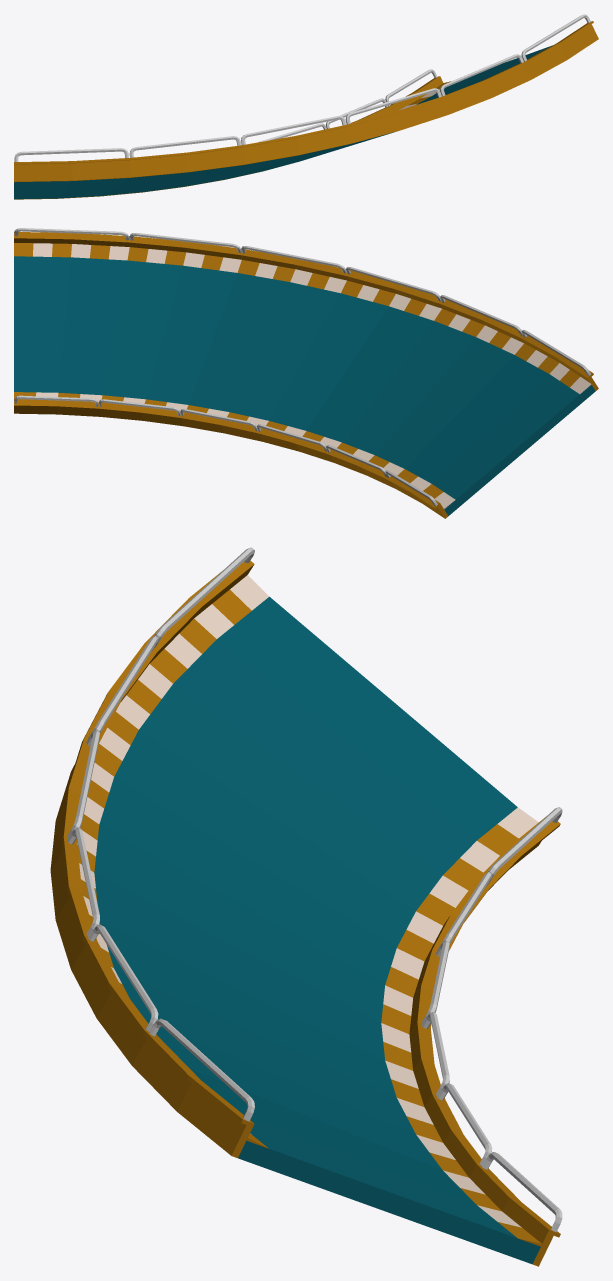
The model's file is bankedLeft-60-30_l.FBX.
3 views of the same model, one above another, from view 1: azimuth 30°, elevation 25°; view 2: azimuth 150°, elevation 25°; view 3: azimuth 270°, elevation 25° (orthographic). The views are drawn at different scales.
Visible parts, largest first — view 1: wall_r, bankedLeft-60-30, wall_l; view 2: bankedLeft-60-30, curbs_r, wall_r, wall_l, curbs_l; view 3: bankedLeft-60-30, wall_r, wall_l, curbs_l, curbs_r.
Part boxes in pixels (left/top/right/bottom): wall_r: left=14, top=14, right=598, bottom=182; bankedLeft-60-30: left=14, top=45, right=552, bottom=199; wall_l: left=14, top=69, right=443, bottom=199; bankedLeft-60-30: left=14, top=256, right=595, bottom=515; curbs_r: left=14, top=243, right=591, bottom=393; wall_r: left=14, top=228, right=598, bottom=390; wall_l: left=14, top=395, right=448, bottom=518; curbs_l: left=14, top=392, right=455, bottom=509; bankedLeft-60-30: left=94, top=596, right=540, bottom=1264; wall_r: left=50, top=547, right=254, bottom=1158; wall_l: left=409, top=807, right=562, bottom=1266; curbs_l: left=381, top=807, right=541, bottom=1246; curbs_r: left=77, top=575, right=268, bottom=1148.
Size of what is drawn, in the model's own units: 660 by 126 by 250.
